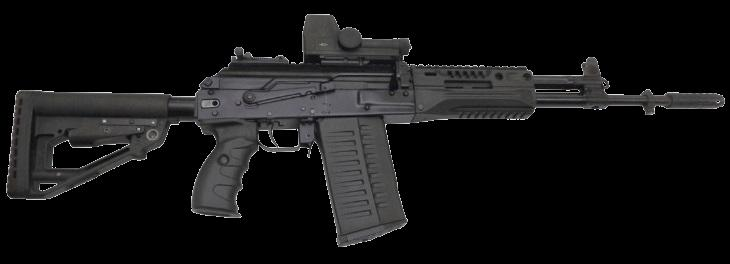larga: (4, 13, 729, 249)
